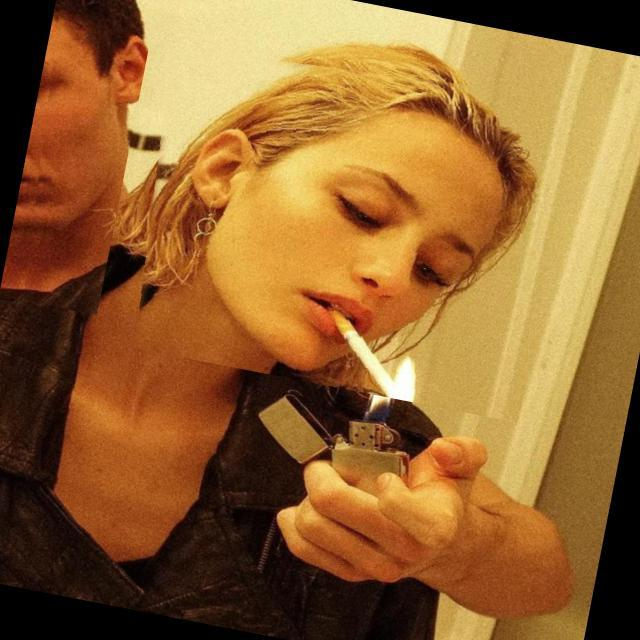cigarette: (266, 290, 428, 422)
